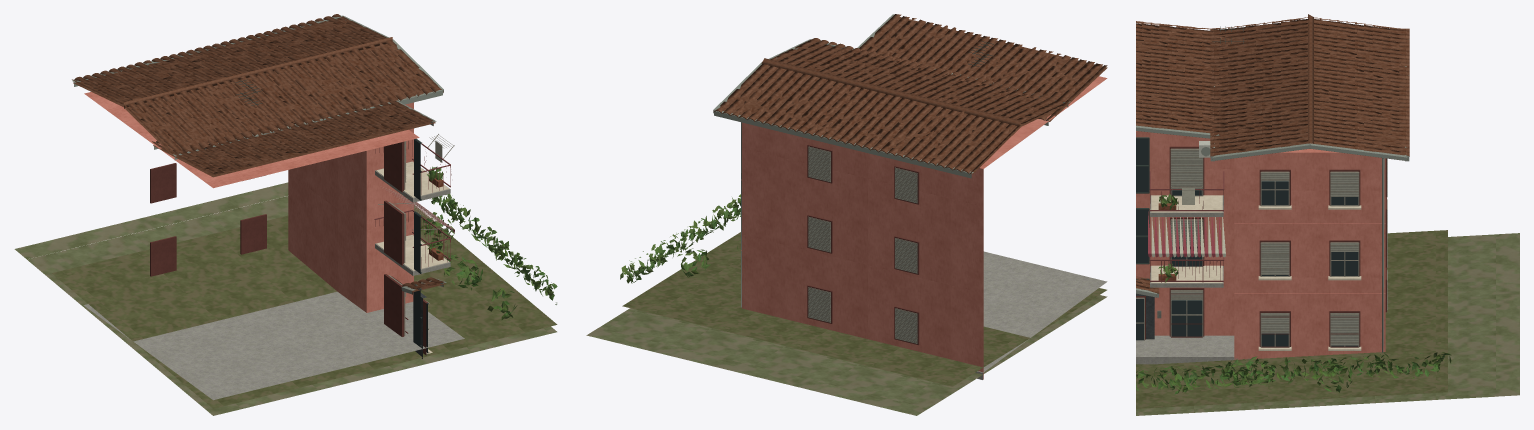
3 renders of one model, left to right at view 1: azimuth 30°, elevation 25°; view 2: azimuth 150°, elevation 25°; view 3: azimuth 270°, elevation 25°, orthographic. The views are drawn at different scales.
Bounding box in the file's own units: 16 × 12.16 × 16.
20 materials, 17 textured.
